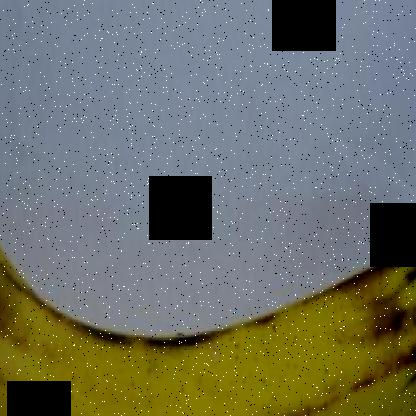ripe: (1, 167, 415, 415)
